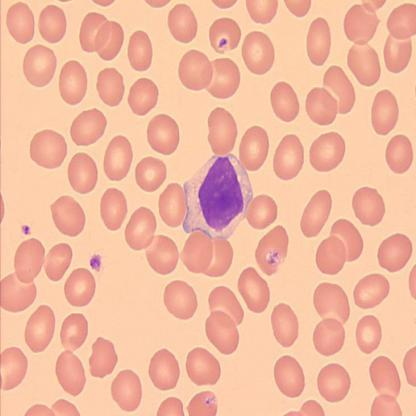Lymphocyte: (183, 154, 253, 240)
